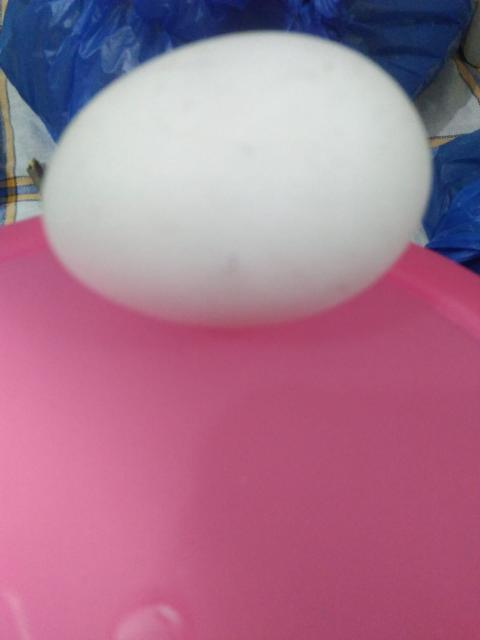Sano: (39, 28, 434, 328)
